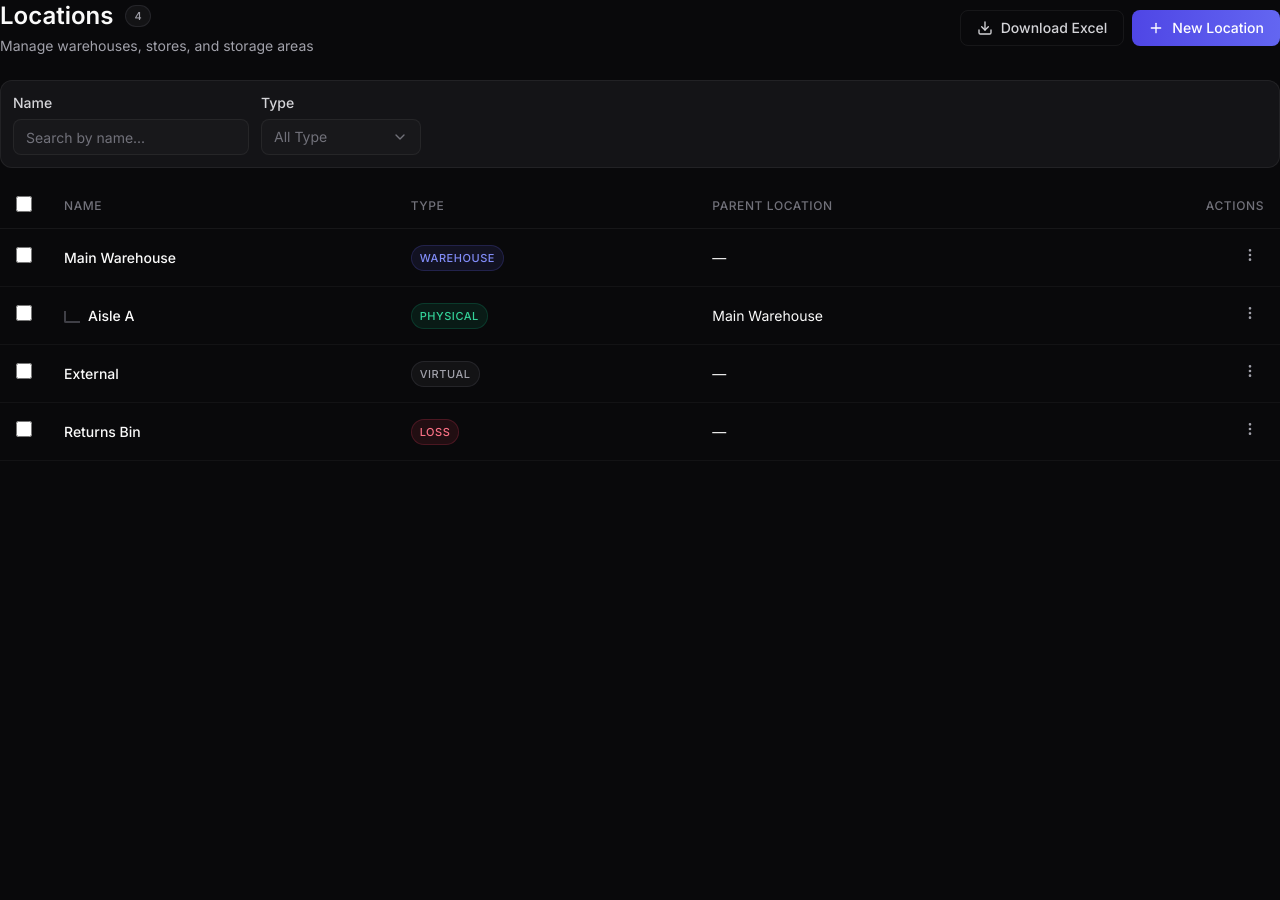
Test: LocationList bulk-delete flow › cancelling the second confirm aborts the delete
Click the checkbox named "Select External". click: (24, 371)
box: [16, 363, 32, 379]
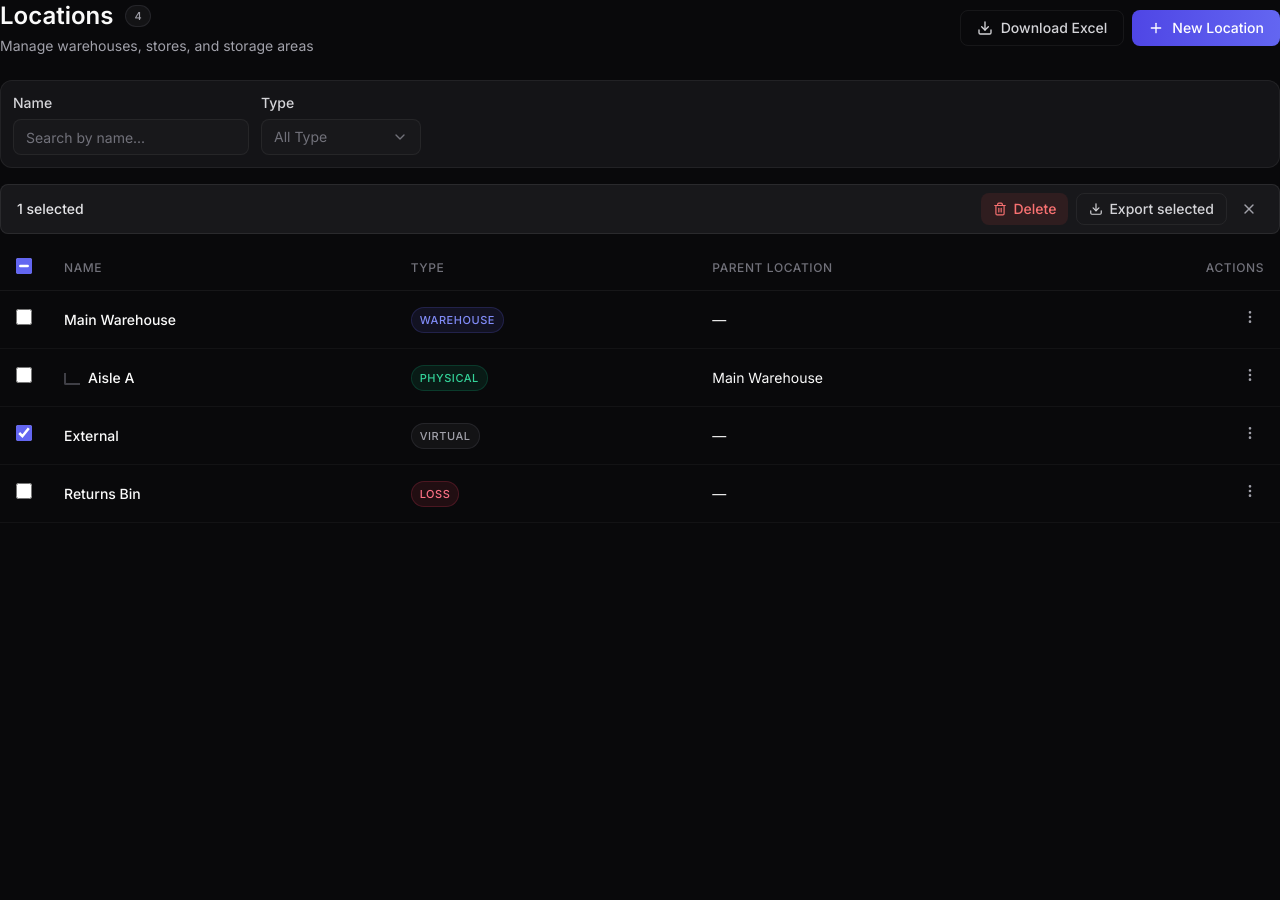
Click the button "Delete". click: (1025, 209)
box: [982, 193, 1068, 225]
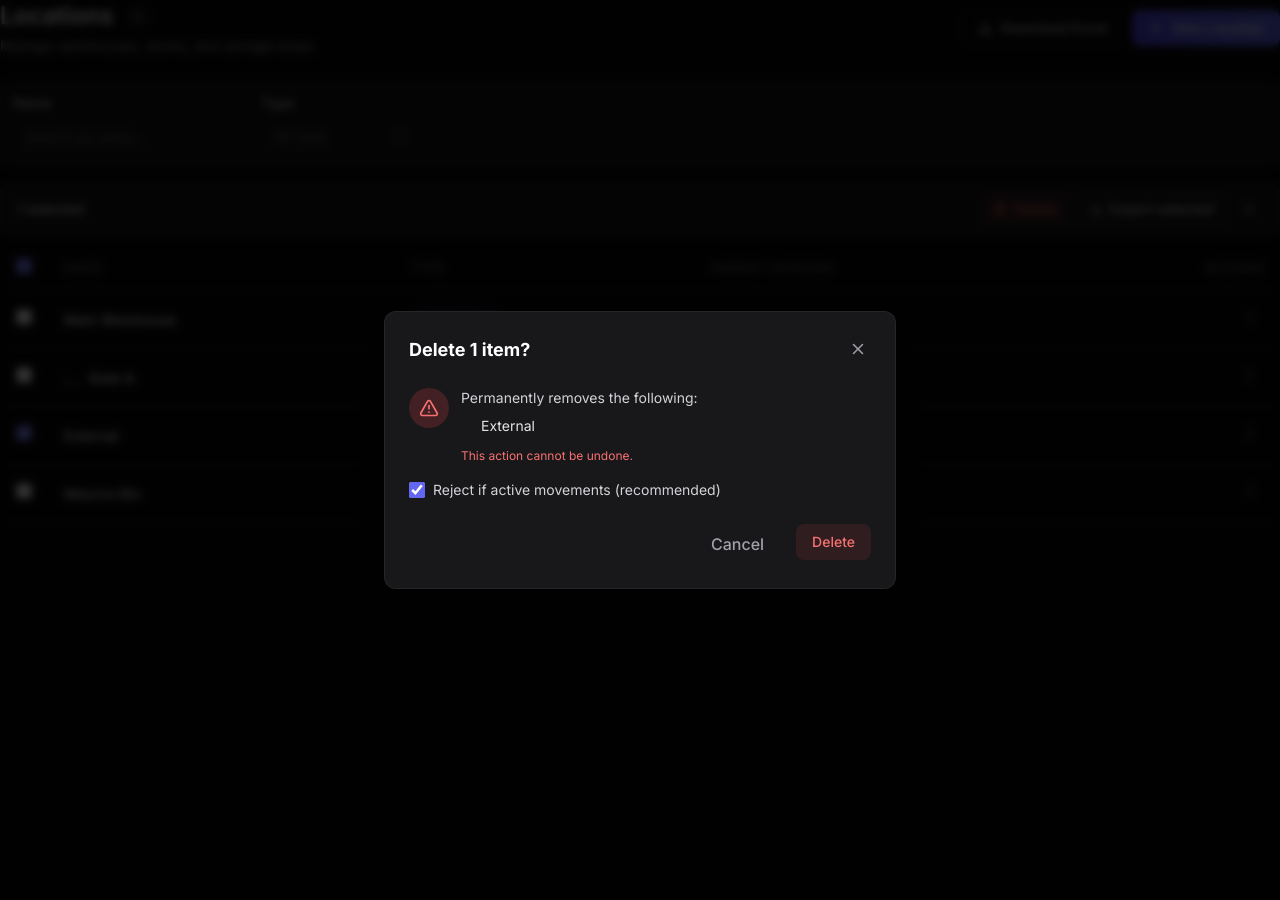
Click the checkbox. click: (417, 490)
box: [409, 482, 425, 498]
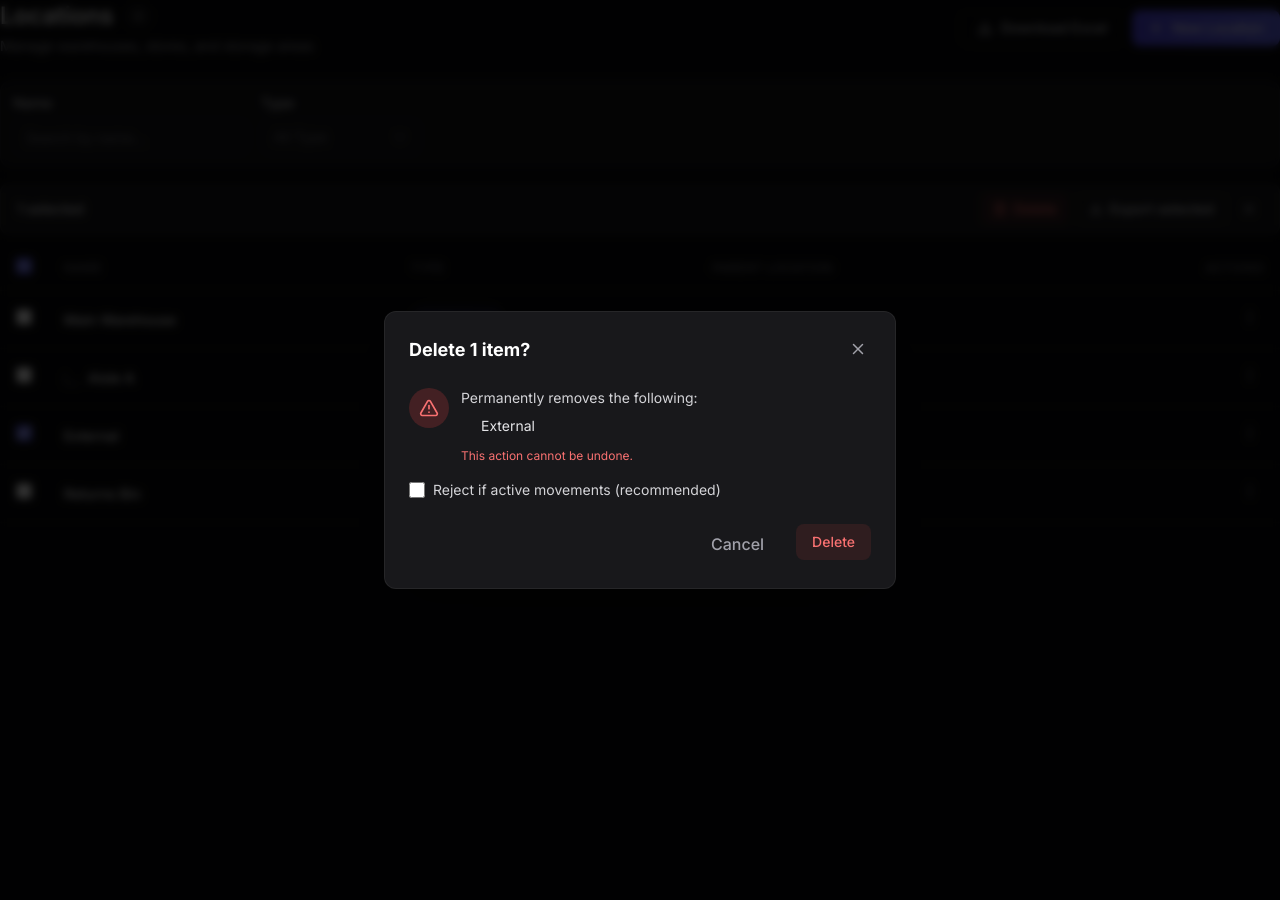
Click the button with test id "bulk-delete-confirm". click: (834, 542)
box: [796, 524, 871, 560]
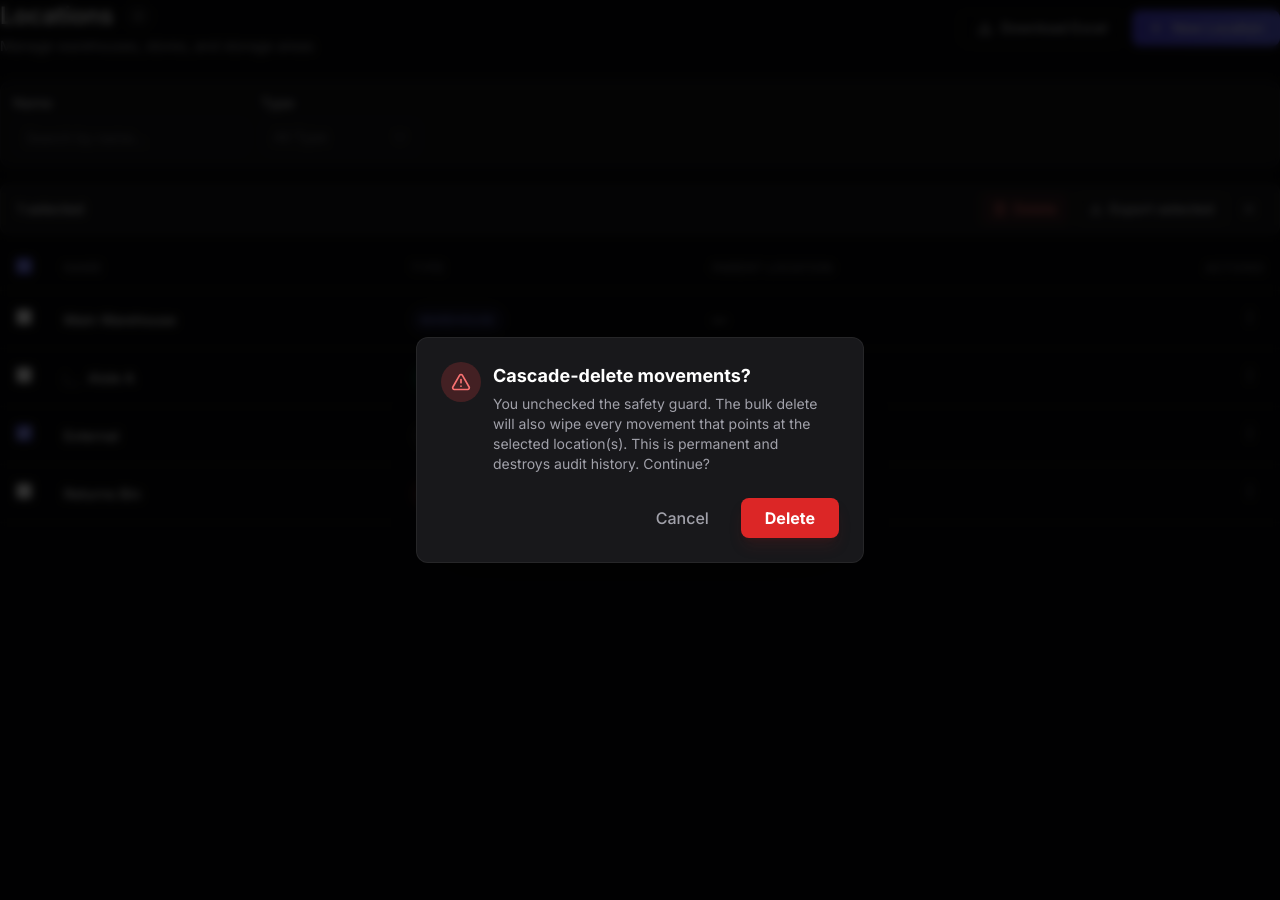
Click the button with test id "confirm-dialog-cancel". click: (682, 518)
box: [636, 498, 729, 538]
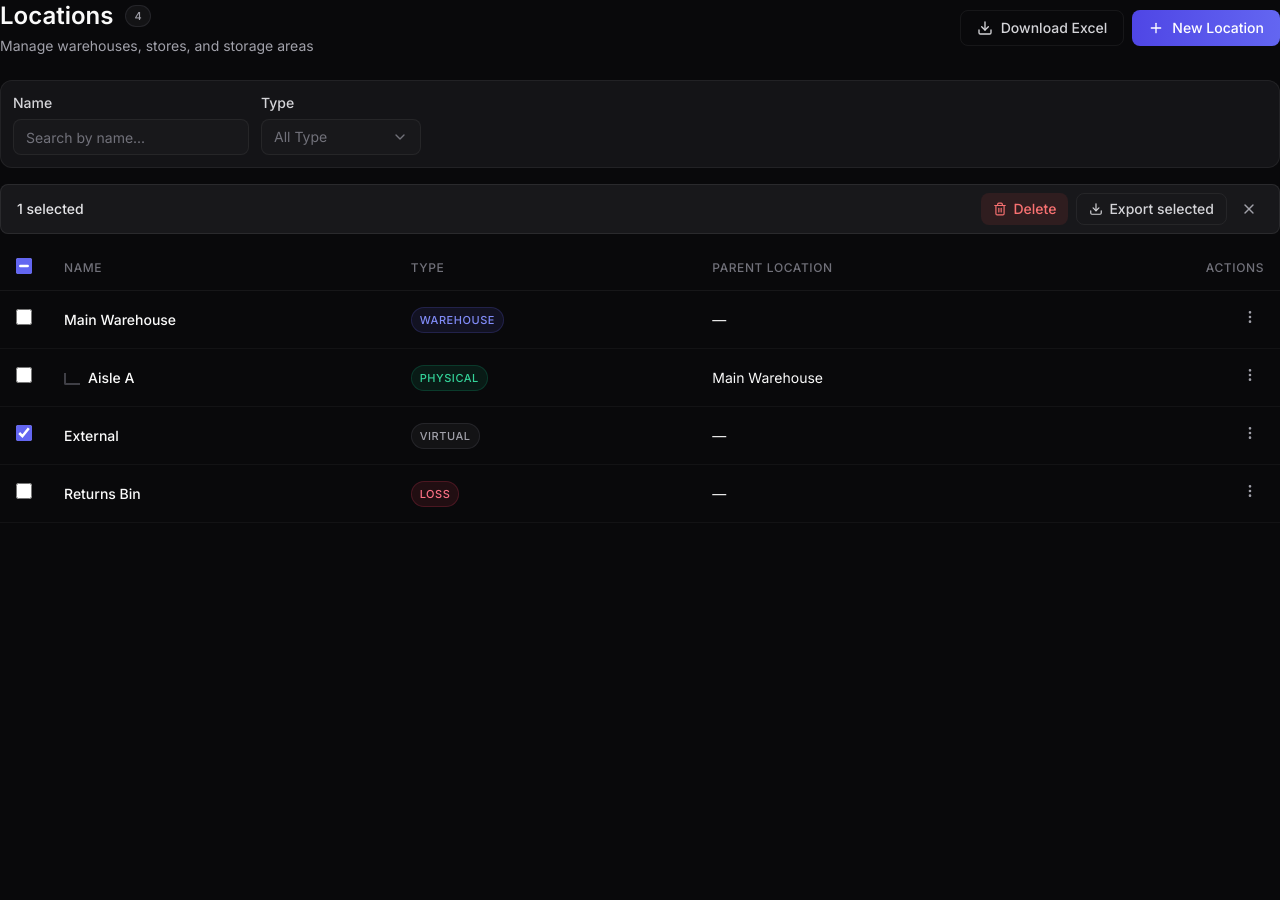
Now the element with test id "confirm-dialog" is gone
